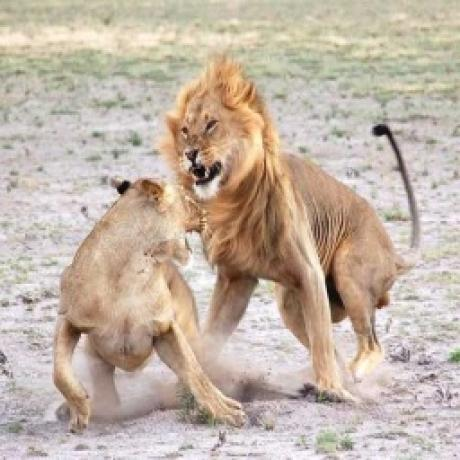Lion: (170, 48, 421, 405), (47, 175, 243, 434)
